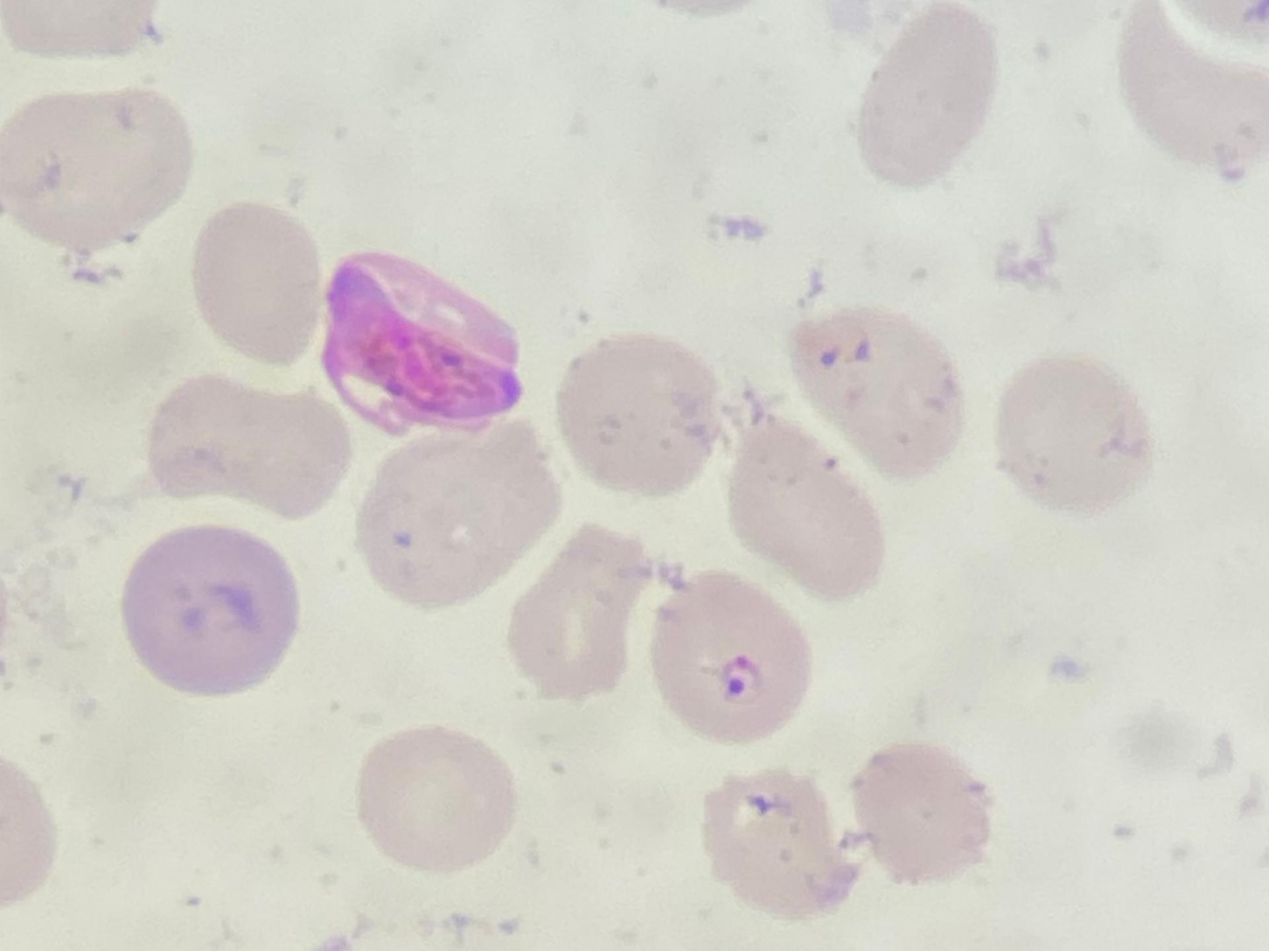Infected: (316, 248, 522, 430), (651, 572, 813, 744)
Uninfected: (355, 405, 562, 611), (0, 90, 196, 251), (787, 301, 965, 476), (147, 367, 346, 518), (126, 522, 297, 695), (730, 415, 882, 596), (555, 332, 719, 498), (853, 0, 994, 192), (1122, 4, 1269, 168), (707, 764, 861, 919), (507, 519, 644, 693), (997, 356, 1142, 512), (360, 727, 517, 871), (192, 205, 320, 362), (854, 737, 985, 884)
